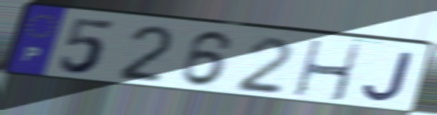2: (116, 24, 177, 84), (235, 35, 296, 95)
5: (57, 18, 120, 78)
6: (178, 29, 234, 90)
H: (292, 38, 364, 104)
J: (361, 51, 416, 104)
